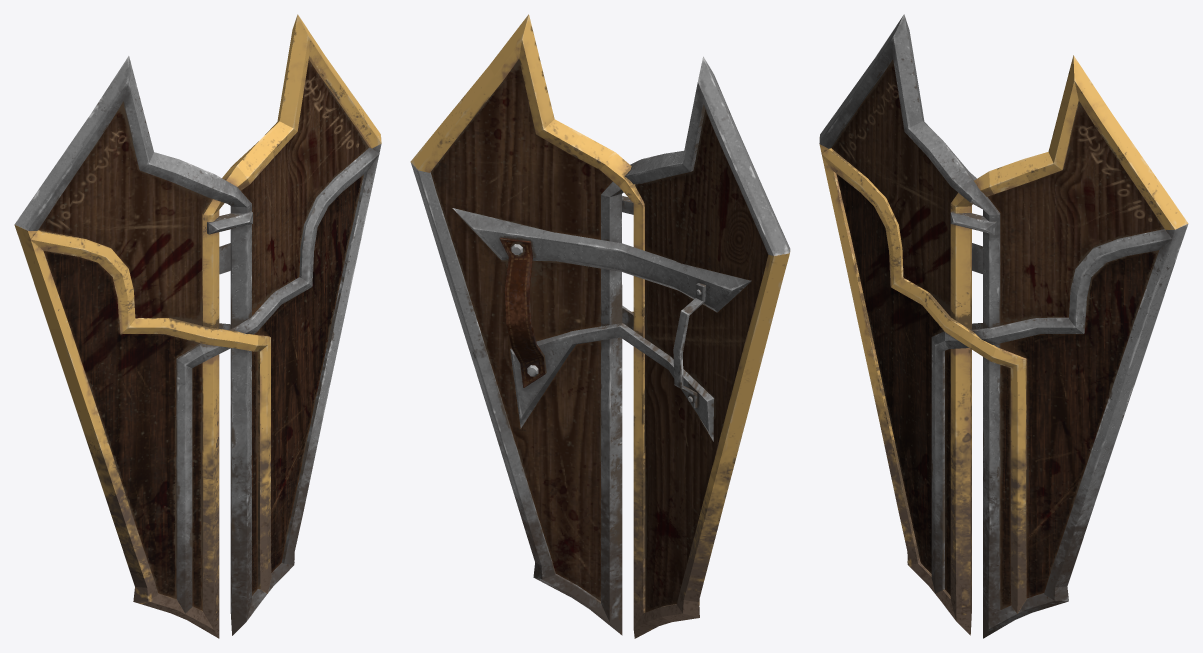
File: Ancient_Shield.glb
The picture shows the model from 3 angles, left to right: view 1: azimuth 30°, elevation 25°; view 2: azimuth 150°, elevation 25°; view 3: azimuth 330°, elevation 25°; orthographic projection. The views are drawn at different scales.
Visible parts, largest first — view 1: shield_outline_lambert1_0, shield_base_right_lambert1_0, shield_base_left_lambert1_0, shield_inner_1_lambert1_0, shield_inner_2_lambert1_0, shield_inner_crossbar_lambert1_0; view 2: shield_outline_lambert1_0, shield_base_left_lambert1_0, shield_base_right_lambert1_0, back_bar_1_lambert1_0, back_bar_2_lambert1_0, handle_leather_lambert1_0, handle_metal_lambert1_0; view 3: shield_outline_lambert1_0, shield_base_left_lambert1_0, shield_base_right_lambert1_0, shield_inner_1_lambert1_0, shield_inner_2_lambert1_0, shield_inner_crossbar_lambert1_0.
Boxes of the visible parts, <box> form: shield_outline_lambert1_0: <box>14,14,381,638</box>; shield_base_right_lambert1_0: <box>38,102,211,610</box>; shield_base_left_lambert1_0: <box>241,59,369,595</box>; shield_inner_1_lambert1_0: <box>31,230,271,593</box>; shield_inner_2_lambert1_0: <box>176,147,379,613</box>; shield_inner_crossbar_lambert1_0: <box>207,211,252,234</box>; shield_outline_lambert1_0: <box>410,14,790,638</box>; shield_base_left_lambert1_0: <box>430,59,612,600</box>; shield_base_right_lambert1_0: <box>635,109,768,612</box>; back_bar_1_lambert1_0: <box>452,208,751,312</box>; back_bar_2_lambert1_0: <box>510,323,714,441</box>; handle_leather_lambert1_0: <box>500,237,546,387</box>; handle_metal_lambert1_0: <box>673,283,705,408</box>; shield_outline_lambert1_0: <box>819,14,1188,638</box>; shield_base_left_lambert1_0: <box>987,102,1164,609</box>; shield_base_right_lambert1_0: <box>831,59,957,595</box>; shield_inner_1_lambert1_0: <box>821,148,1026,613</box>; shield_inner_2_lambert1_0: <box>931,229,1171,593</box>; shield_inner_crossbar_lambert1_0: <box>950,211,996,234</box>.
Size of the model in its own units: 0.3561 by 0.5498 by 0.073.
1 material, 1 textured.
